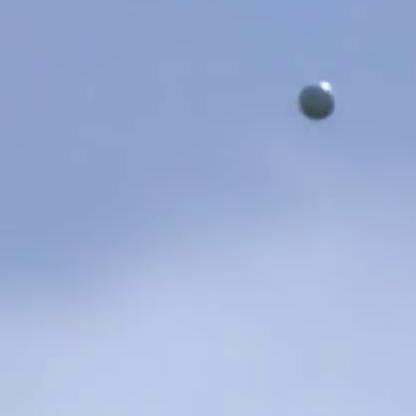golfball: (295, 80, 334, 119)
